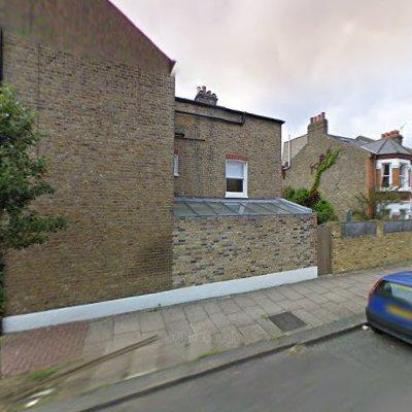stationary-car-onstreet: (366, 268, 412, 346)
